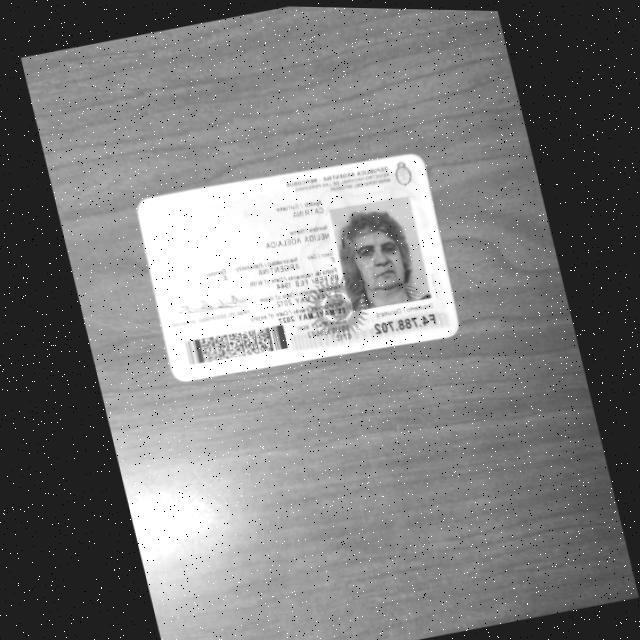card: (137, 155, 457, 381)
